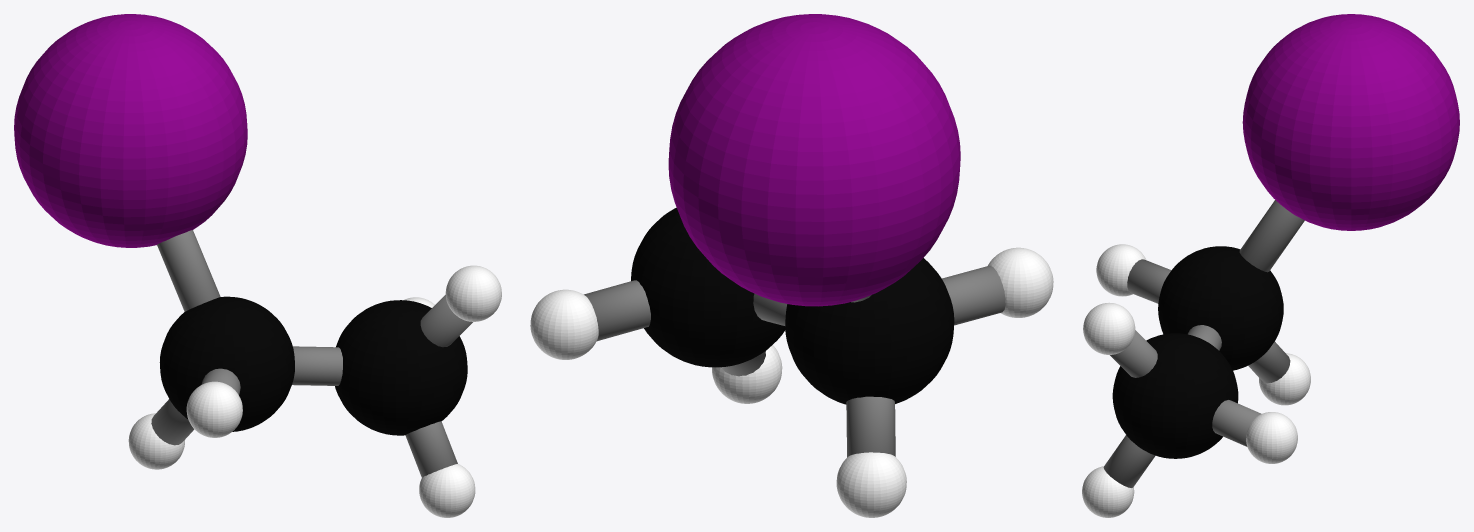
File: IODURO DE ETILO.obj
3 views of the same model, side by side, from view 1: azimuth 30°, elevation 25°; view 2: azimuth 150°, elevation 25°; view 3: azimuth 270°, elevation 25° (orthographic). The views are drawn at different scales.
Parts seen in each view (by area): view 1: Iodine_ball_Sphere, Carbon_ball_Sphere.002, Hydrogen_ball_Sphere.001, Stick_Cylinder_Cylinder, Stick_Cylinder.004_Cylinder.004, Stick_Cylinder.001_Cylinder.001, Stick_Cylinder.005_Cylinder.005, Stick_Cylinder.006_Cylinder.006; view 2: Iodine_ball_Sphere, Carbon_ball_Sphere.002, Hydrogen_ball_Sphere.001, Stick_Cylinder.006_Cylinder.006, Stick_Cylinder.002_Cylinder.002, Stick_Cylinder.003_Cylinder.003, Stick_Cylinder.004_Cylinder.004; view 3: Iodine_ball_Sphere, Carbon_ball_Sphere.002, Hydrogen_ball_Sphere.001, Stick_Cylinder_Cylinder, Stick_Cylinder.001_Cylinder.001, Stick_Cylinder.002_Cylinder.002, Stick_Cylinder.003_Cylinder.003, Stick_Cylinder.005_Cylinder.005, Stick_Cylinder.006_Cylinder.006, Stick_Cylinder.004_Cylinder.004.
Part boxes in pixels (<box>): Iodine_ball_Sphere: <box>14,14,247,247</box>; Carbon_ball_Sphere.002: <box>159,296,467,435</box>; Hydrogen_ball_Sphere.001: <box>128,265,501,517</box>; Stick_Cylinder_Cylinder: <box>157,230,220,311</box>; Stick_Cylinder.004_Cylinder.004: <box>292,346,342,385</box>; Stick_Cylinder.001_Cylinder.001: <box>405,421,457,477</box>; Stick_Cylinder.005_Cylinder.005: <box>420,294,472,347</box>; Stick_Cylinder.006_Cylinder.006: <box>151,399,194,445</box>; Iodine_ball_Sphere: <box>668,14,960,306</box>; Carbon_ball_Sphere.002: <box>631,207,954,404</box>; Hydrogen_ball_Sphere.001: <box>530,247,1053,517</box>; Stick_Cylinder.006_Cylinder.006: <box>846,396,895,457</box>; Stick_Cylinder.002_Cylinder.002: <box>584,280,650,341</box>; Stick_Cylinder.003_Cylinder.003: <box>942,265,1005,325</box>; Stick_Cylinder.004_Cylinder.004: <box>753,293,787,325</box>; Iodine_ball_Sphere: <box>1242,14,1459,230</box>; Carbon_ball_Sphere.002: <box>1112,246,1283,458</box>; Hydrogen_ball_Sphere.001: <box>1082,244,1310,517</box>; Stick_Cylinder_Cylinder: <box>1239,200,1304,272</box>; Stick_Cylinder.001_Cylinder.001: <box>1103,435,1155,487</box>; Stick_Cylinder.002_Cylinder.002: <box>1212,400,1261,446</box>; Stick_Cylinder.003_Cylinder.003: <box>1127,259,1171,303</box>; Stick_Cylinder.005_Cylinder.005: <box>1110,330,1157,377</box>; Stick_Cylinder.006_Cylinder.006: <box>1248,341,1290,383</box>; Stick_Cylinder.004_Cylinder.004: <box>1188,325,1221,350</box>.
Bounding box in the file's own units: 4.34 × 4.96 × 4.17.
